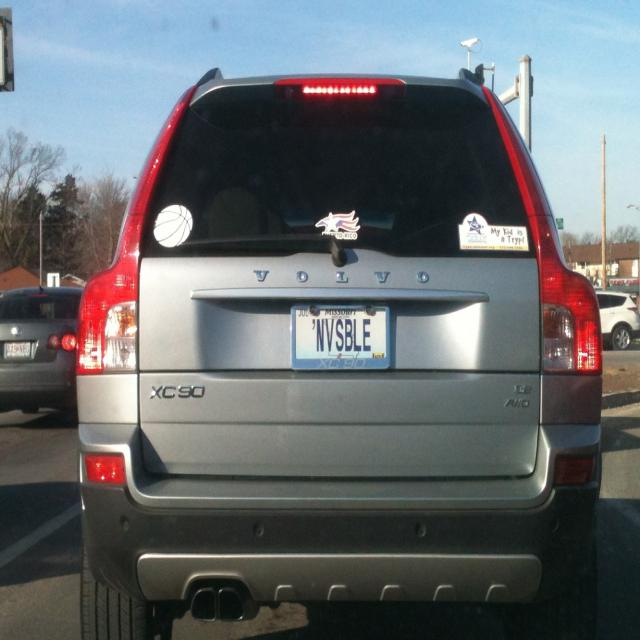Number-Plate: (294, 306, 389, 364)
